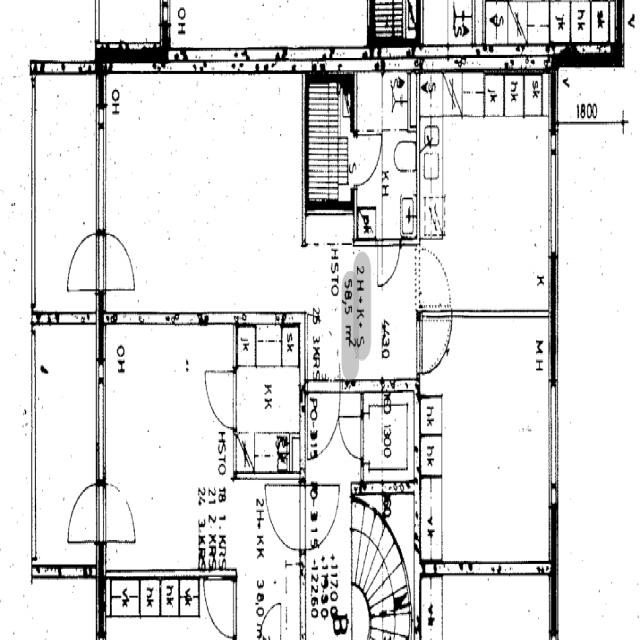door: (265, 477, 303, 554), (306, 484, 342, 556), (101, 477, 138, 546), (417, 244, 453, 313), (65, 477, 100, 546), (65, 225, 99, 295), (103, 229, 137, 296), (418, 307, 452, 374), (202, 576, 237, 637), (204, 365, 236, 430), (351, 128, 383, 188), (338, 411, 366, 461), (378, 235, 402, 288), (260, 602, 285, 638), (234, 370, 252, 408)
window: (545, 377, 562, 504), (546, 144, 562, 258), (95, 362, 109, 480), (95, 118, 107, 231)
zone: (104, 64, 305, 328), (101, 316, 236, 576), (421, 315, 552, 574), (420, 65, 548, 314), (33, 313, 100, 568), (32, 65, 100, 314), (353, 67, 420, 239), (234, 318, 306, 476), (306, 72, 352, 202), (360, 387, 418, 485), (556, 62, 622, 124), (419, 1, 472, 54)
